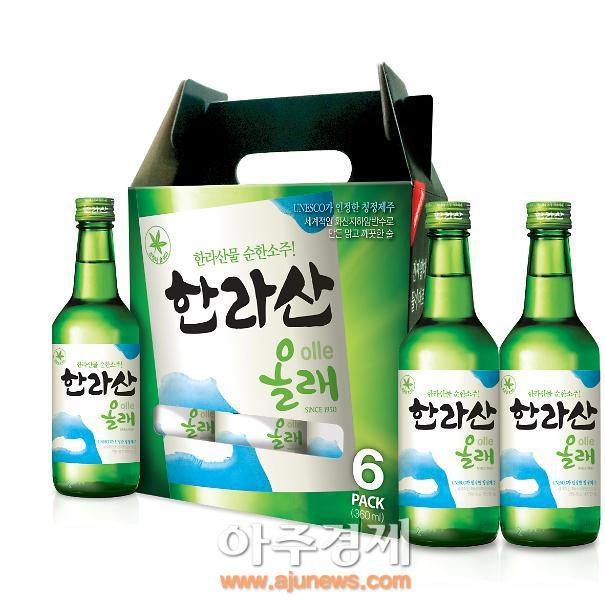soju: (392, 197, 601, 551), (45, 197, 149, 499)
